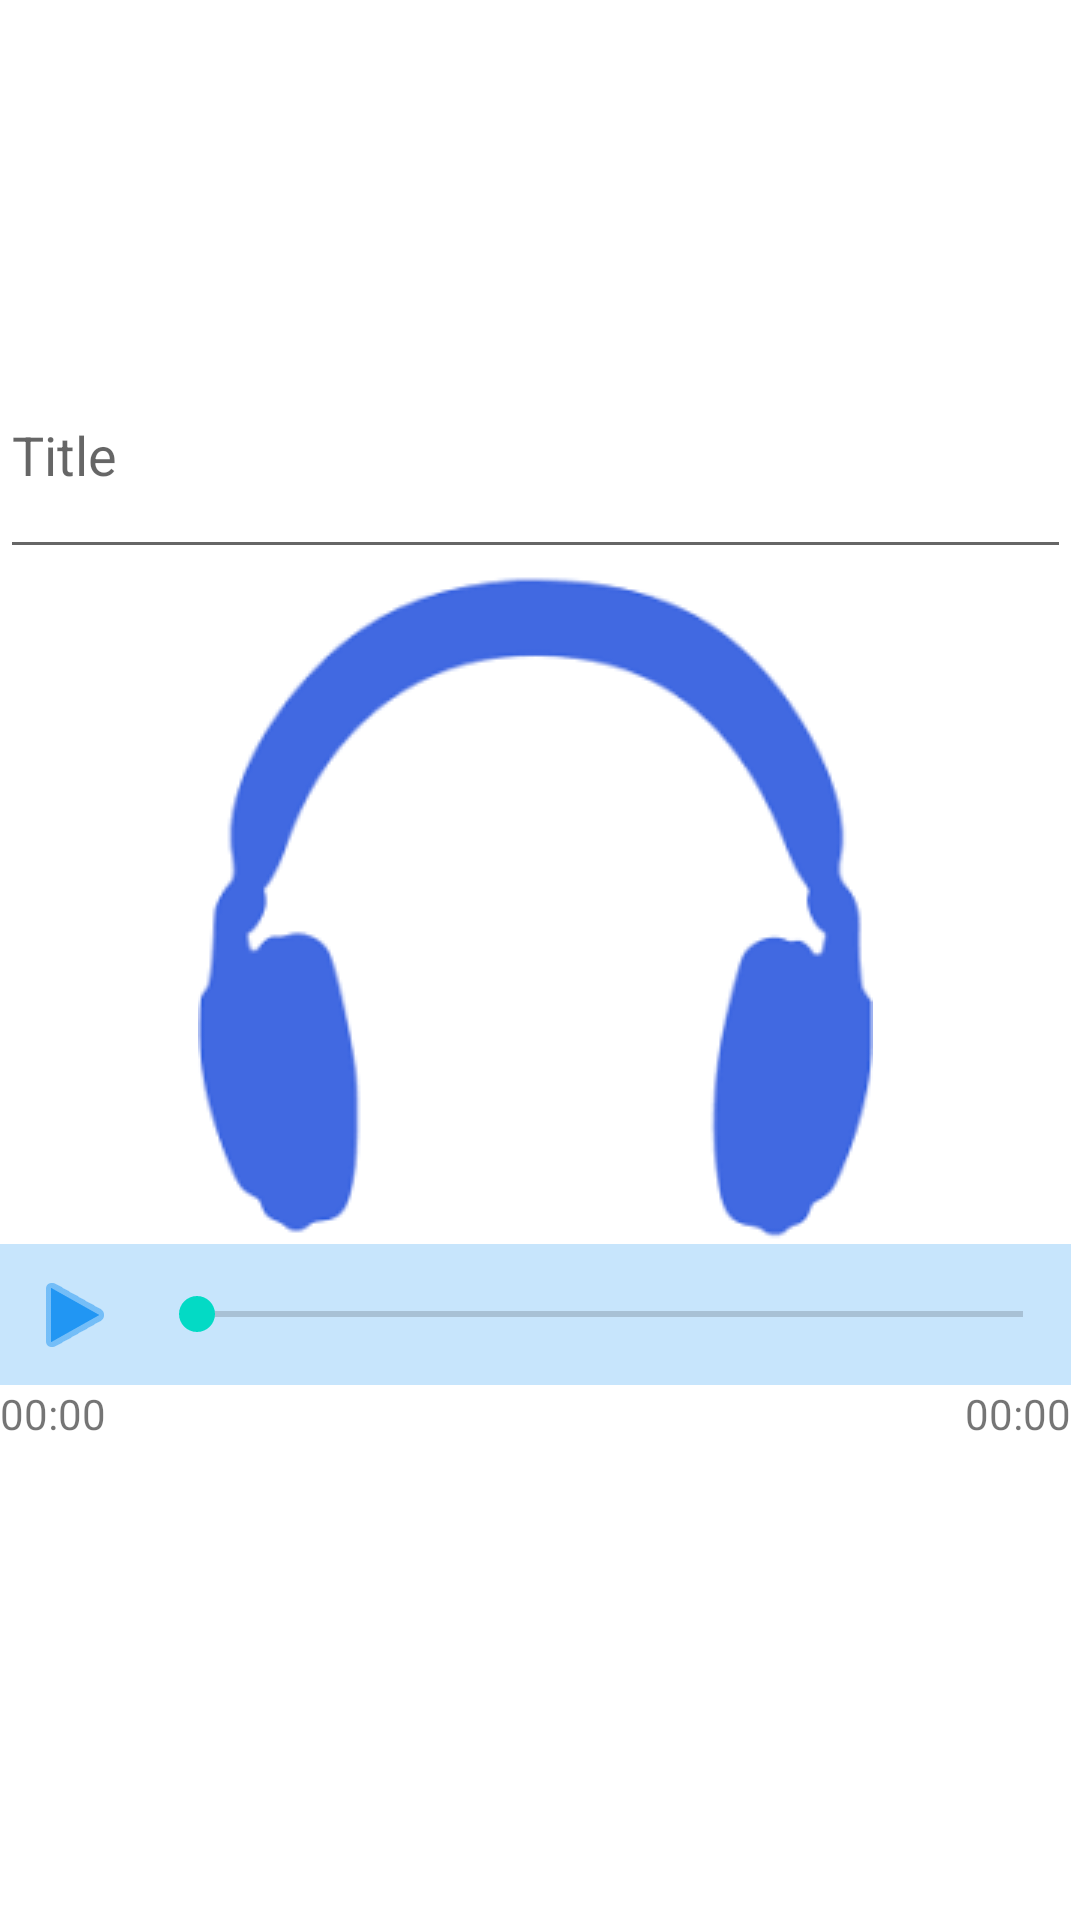

Locate icon controls on the screen. Image size 1080x1920, boxes as [left=x1, top=y1, right=x2, bottom=y2].
play: [left=46, top=1283, right=104, bottom=1347]
